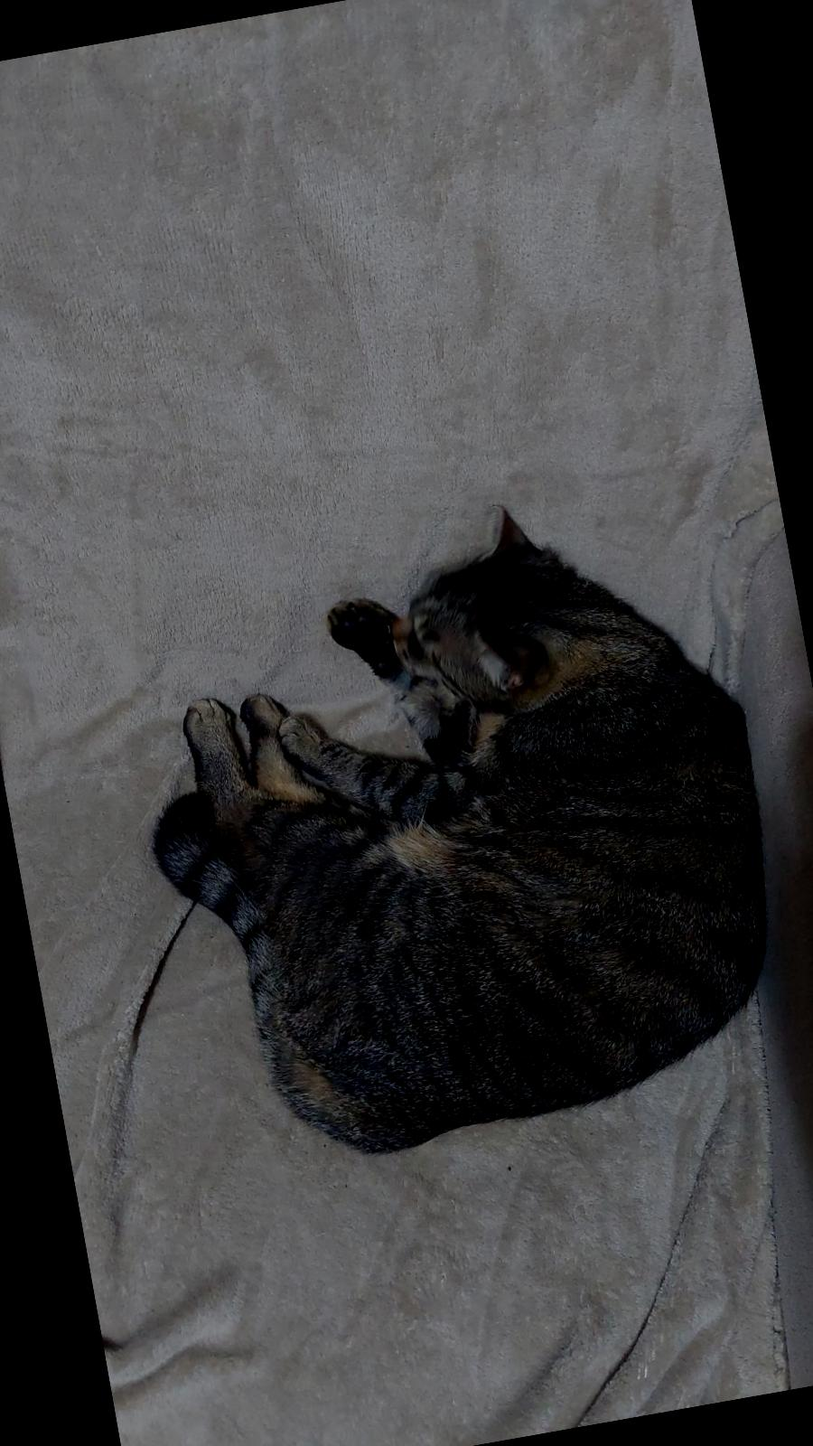macka: (101, 473, 807, 1187)
